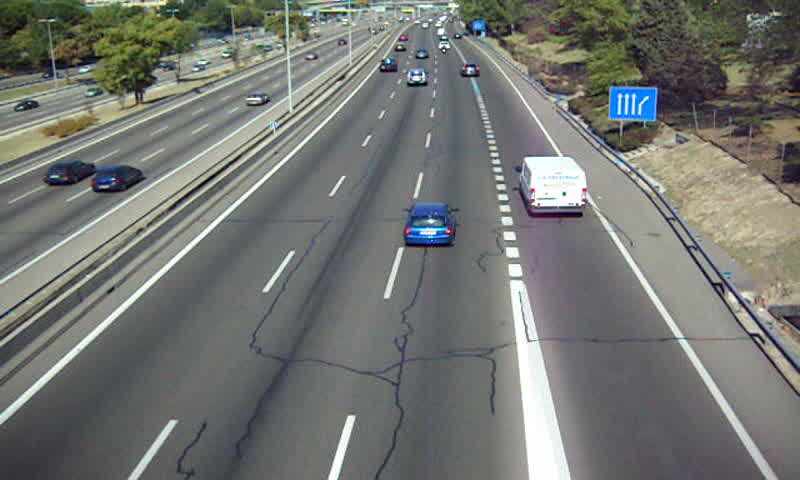car: (404, 203, 457, 245), (405, 69, 427, 86), (459, 63, 483, 77), (379, 58, 398, 75)
van: (516, 156, 588, 215)
